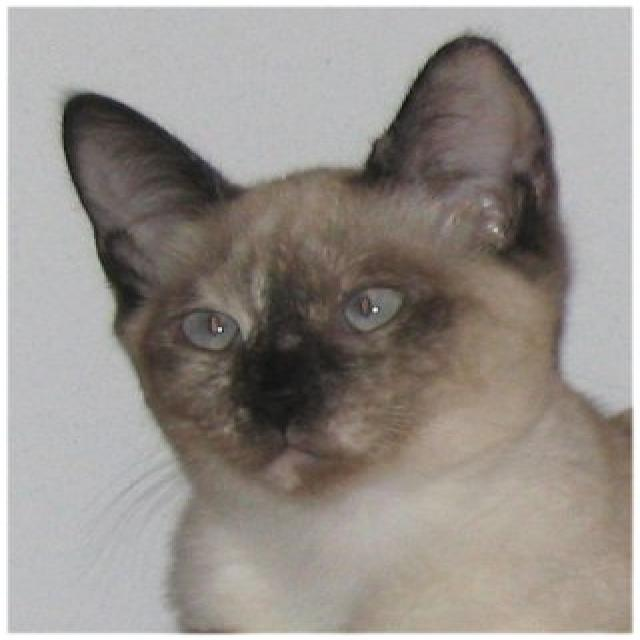Cats: (58, 32, 630, 631)
